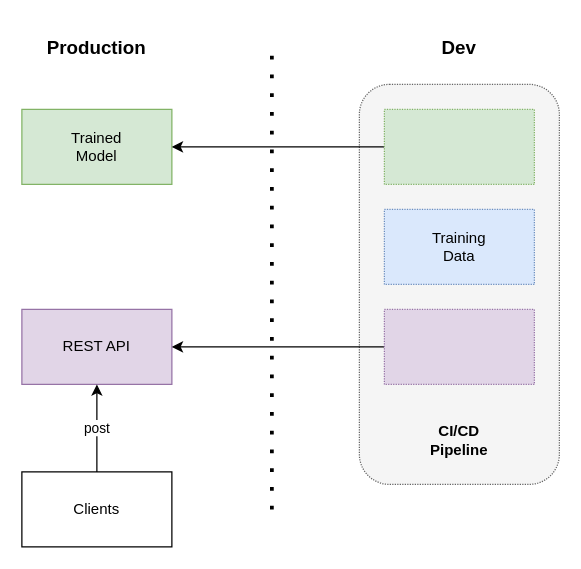
Some shapes in this 581 by 569 pixel diagram are drawn without their labels. The shapes that lost their labels are listed below. From the top down, each one's box as (x1, y1, x2, y2) in pixels, then its label:
(383, 108, 534, 184): Model Builder
(383, 308, 534, 384): REST API Development
